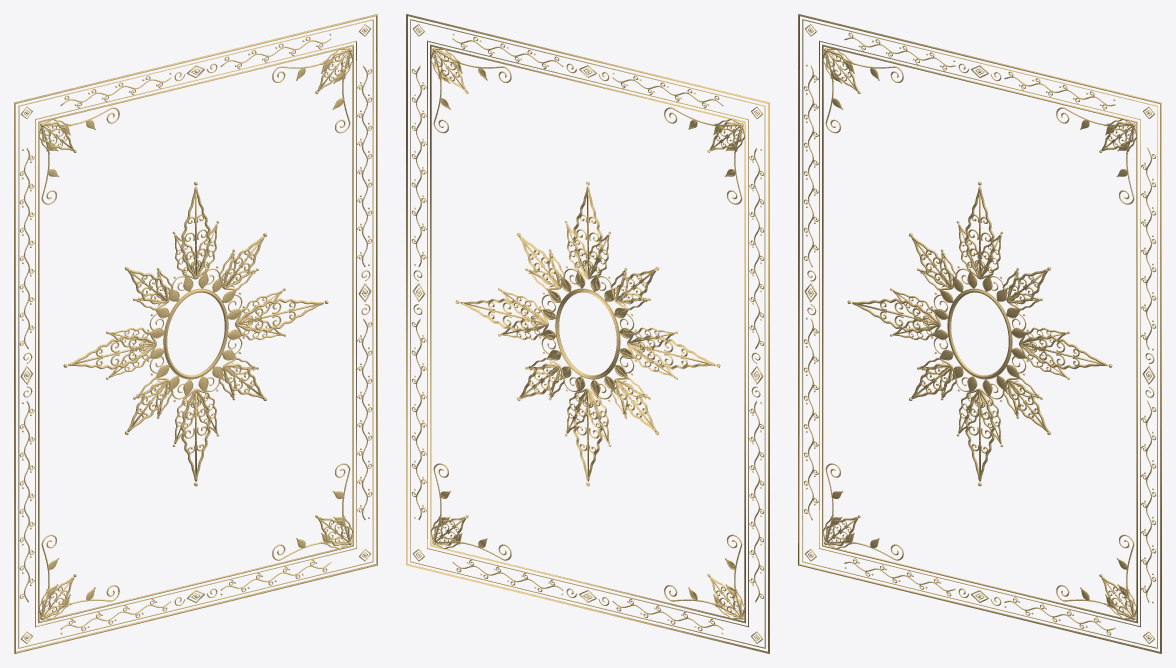
The model's file is gold_front.glb.
The picture shows the model from 3 angles, left to right: view 1: azimuth 30°, elevation 25°; view 2: azimuth 150°, elevation 25°; view 3: azimuth 330°, elevation 25°; orthographic projection.
Parts seen in each view (by area): view 1: GoldFront; view 2: GoldFront; view 3: GoldFront.
Part boxes in pixels (x1,y1,x2,y2): GoldFront: (14,14,377,653); GoldFront: (406,14,769,653); GoldFront: (798,14,1161,653).
Size of the model in its own units: 3.22 by 4.67 by 0.0291.
